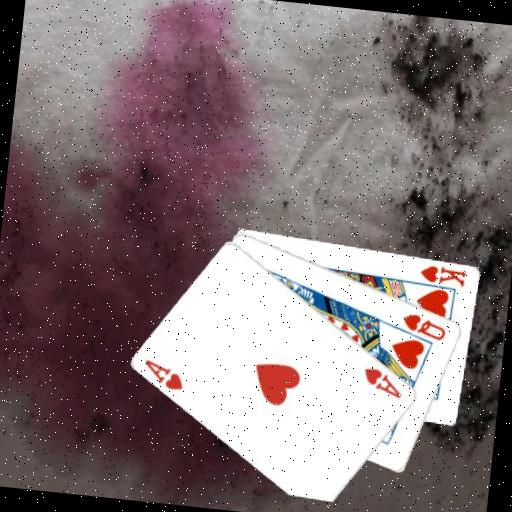AH: (139, 356, 188, 393), (359, 364, 407, 401)
KH: (416, 260, 468, 288)
QH: (398, 310, 449, 343)
